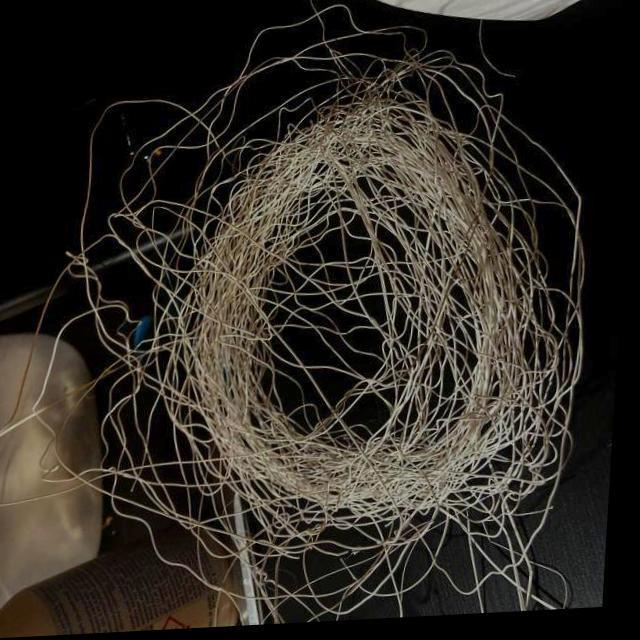spaghetti: (252, 13, 497, 298), (115, 93, 259, 400), (107, 381, 328, 536), (487, 181, 600, 466), (310, 449, 499, 598), (371, 300, 523, 444), (200, 528, 308, 604)
